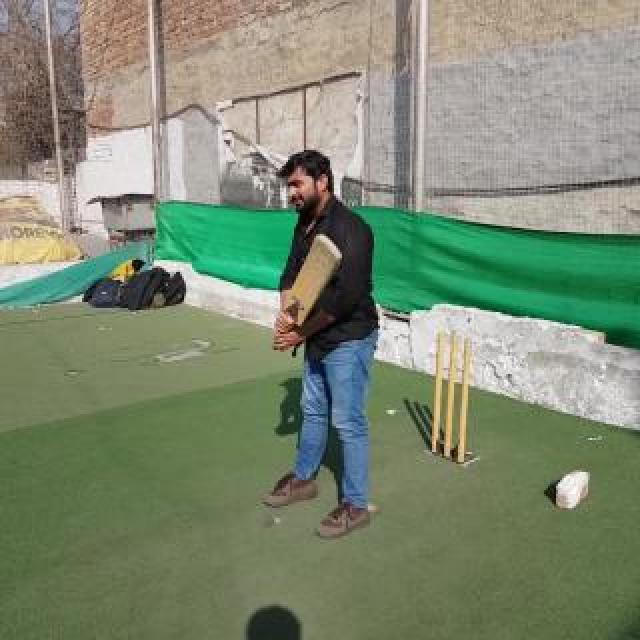bat: (271, 234, 343, 350)
